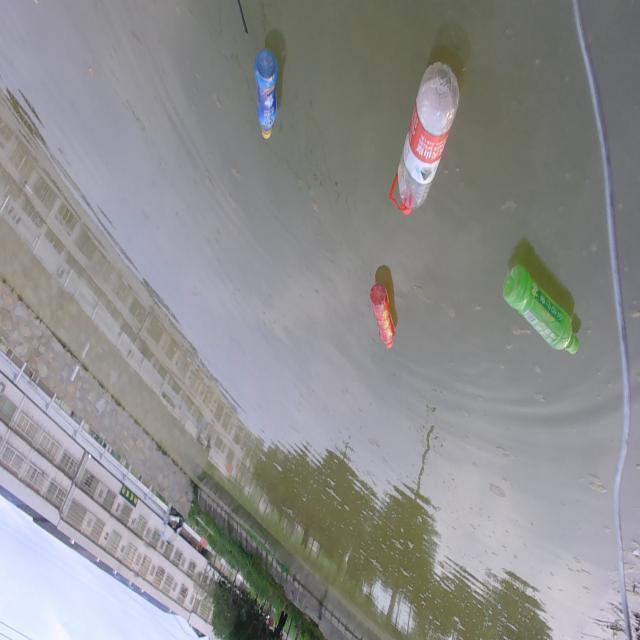bottle: (380, 36, 473, 234), (494, 212, 595, 374), (358, 566, 428, 636), (245, 46, 292, 144), (359, 280, 407, 355)
